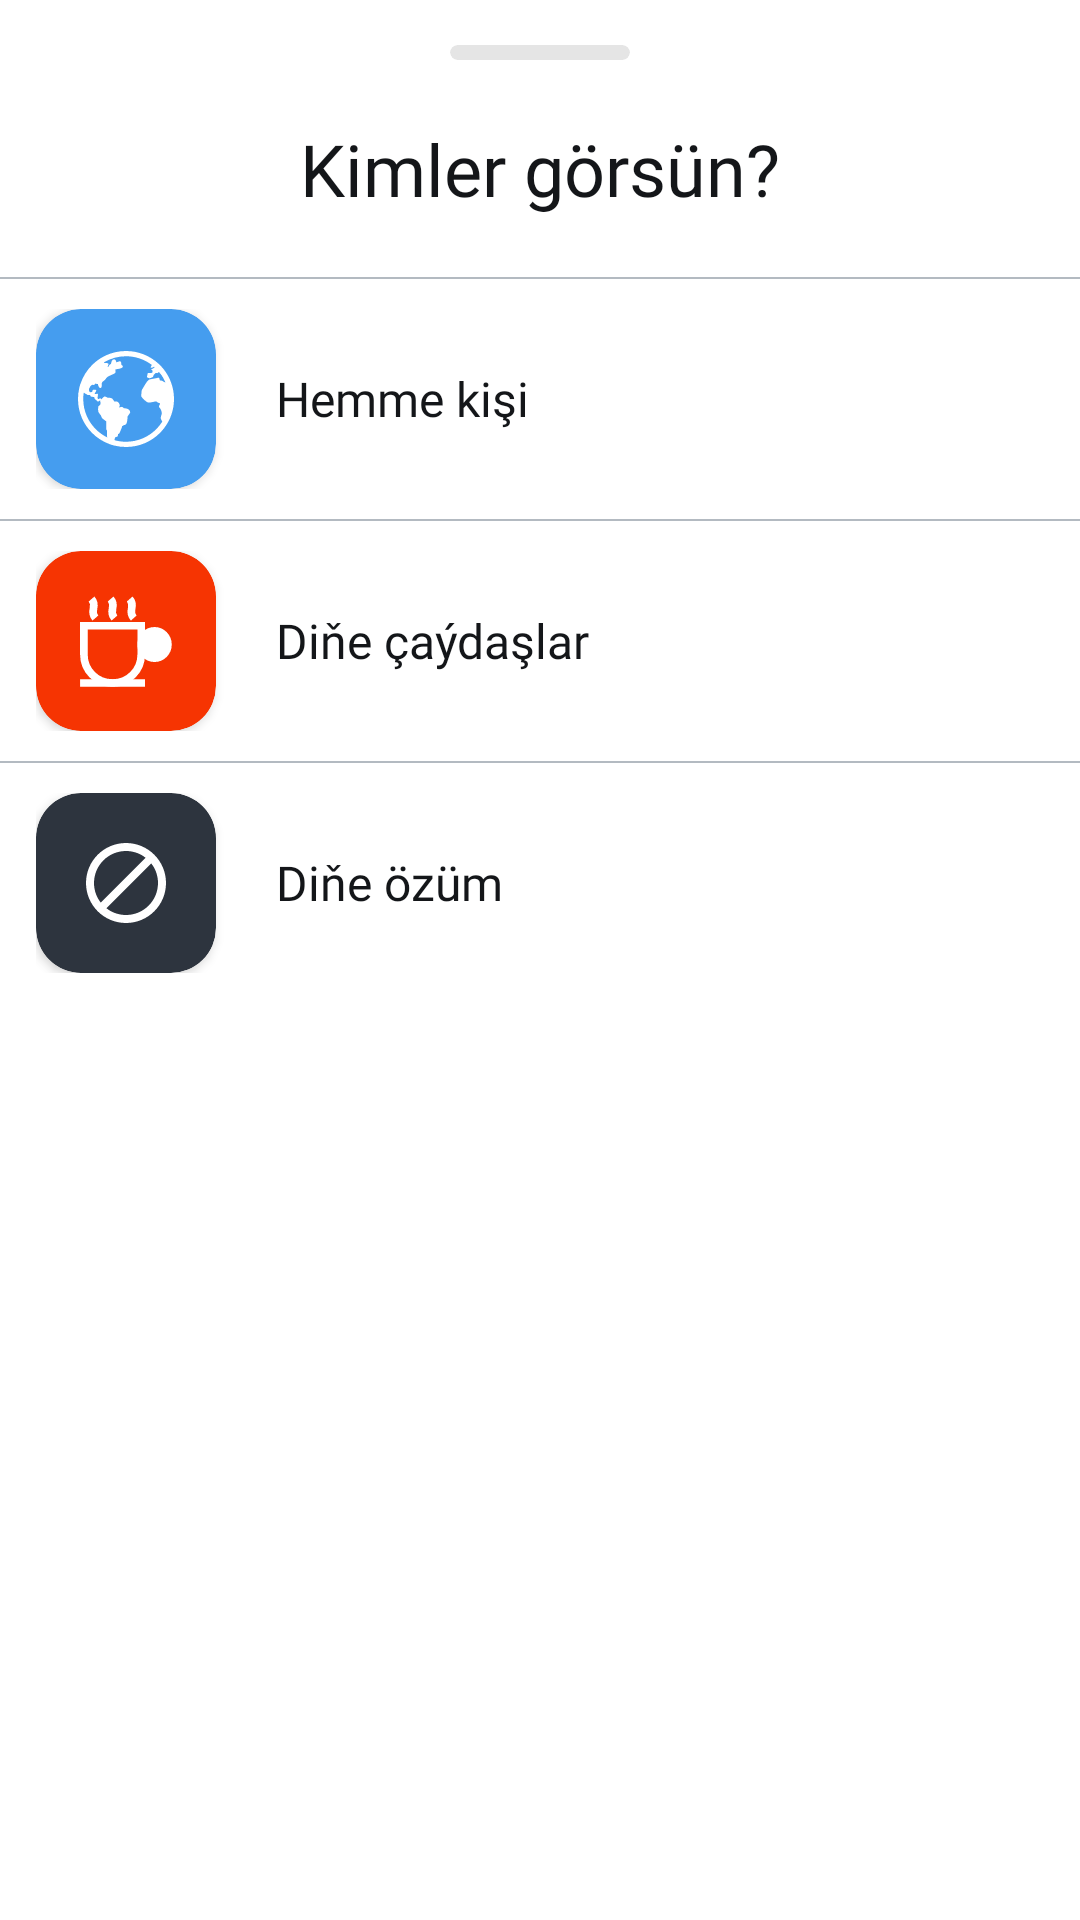

Icon bounding boxes for this 1080*1920 phone screenshot, format bbox(x1, y1, x2, y2):
block: bbox(86, 843, 166, 923)
earth: bbox(78, 351, 174, 447)
tea: bbox(80, 596, 172, 687)
